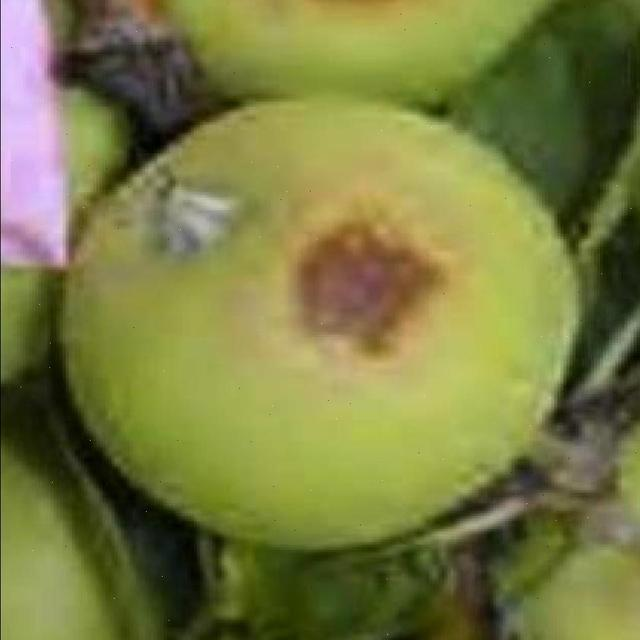Blossom End Rot Fruit: (168, 121, 303, 258)
